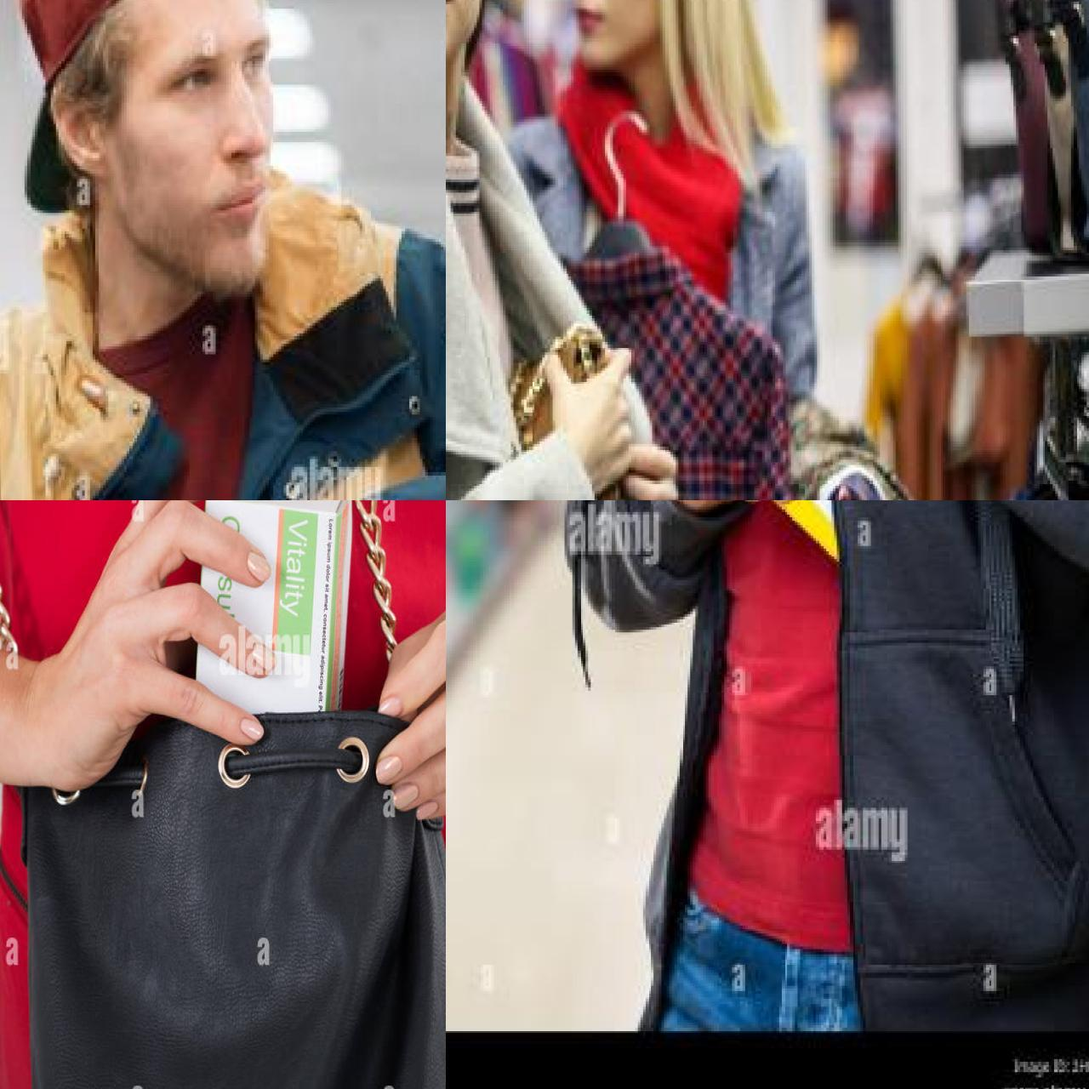shoplifting: (445, 0, 1089, 496), (3, 506, 442, 1089)
